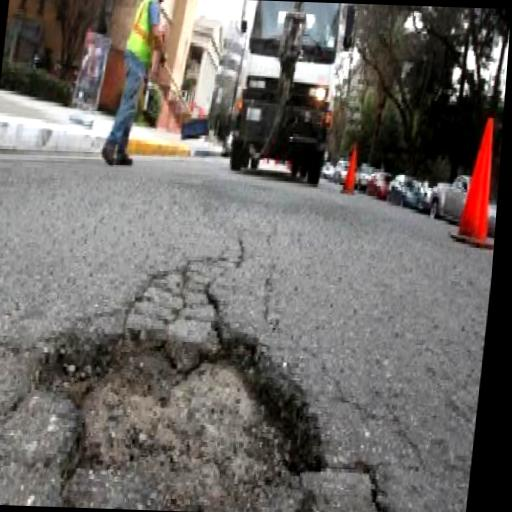pothole: (15, 312, 345, 512)
